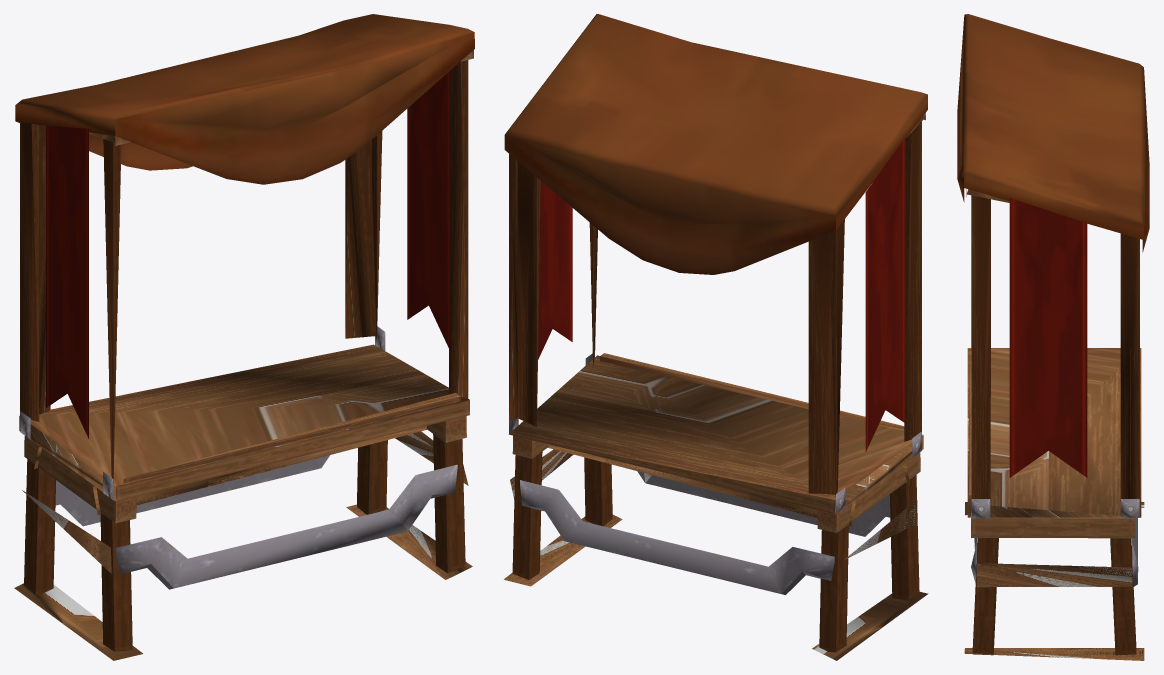
File: Stall_Empty.medium.gltf
The picture shows the model from 3 angles, left to right: view 1: azimuth 30°, elevation 25°; view 2: azimuth 150°, elevation 25°; view 3: azimuth 270°, elevation 25°; orthographic projection. The views are drawn at different scales.
Parts seen in each view (by area): view 1: Stall_Empty; view 2: Stall_Empty; view 3: Stall_Empty.
Part boxes in pixels (x1,y1,x2,y2): Stall_Empty: [14, 14, 474, 660]; Stall_Empty: [504, 14, 928, 660]; Stall_Empty: [957, 14, 1149, 660].
Size of the model in its own units: 1.83 by 2.63 by 0.9324.
3 materials, 3 textured.
